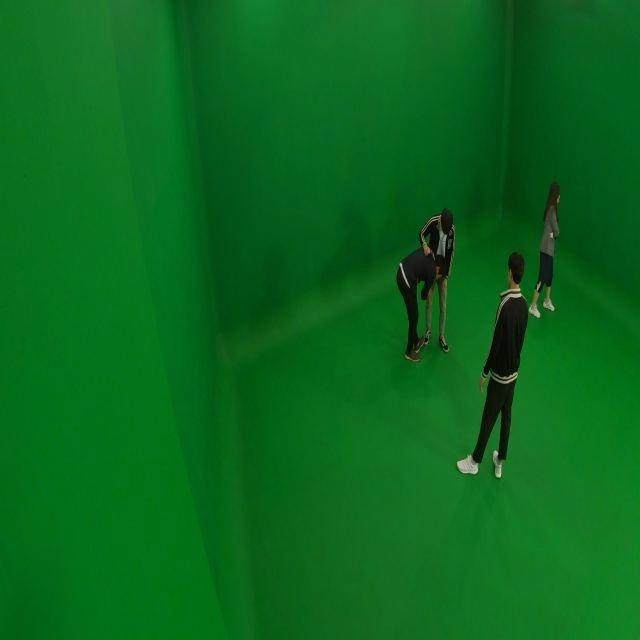fight: (394, 207, 454, 362)
non-fight: (462, 252, 529, 480), (531, 180, 562, 316)
